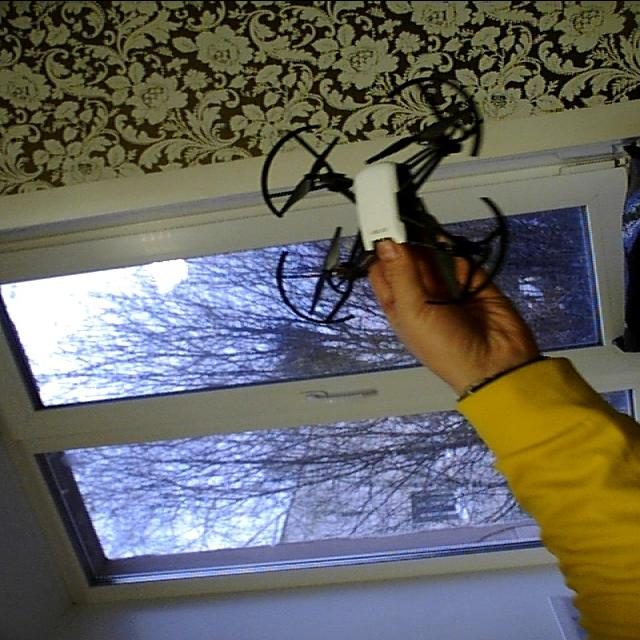drone: (256, 68, 516, 326)
